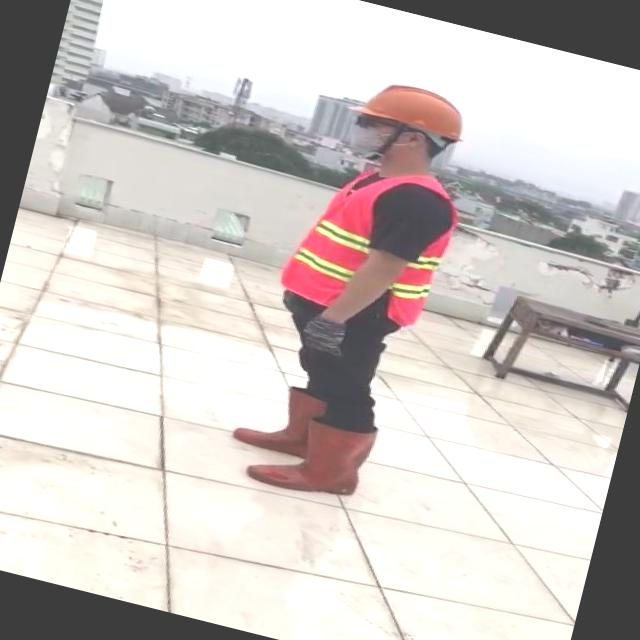boots: (246, 404, 381, 509), (228, 376, 326, 462)
gloves: (283, 284, 362, 365)
helmet: (351, 72, 476, 142)
vest: (277, 147, 467, 331)
